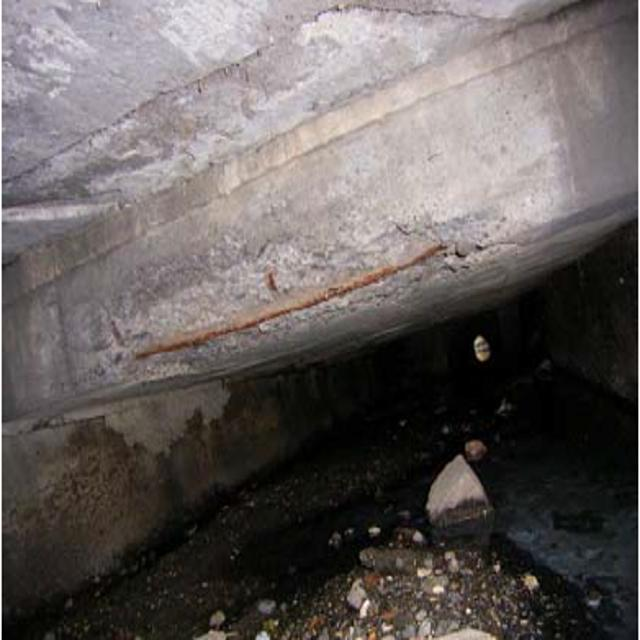spalling: (106, 192, 517, 412)
